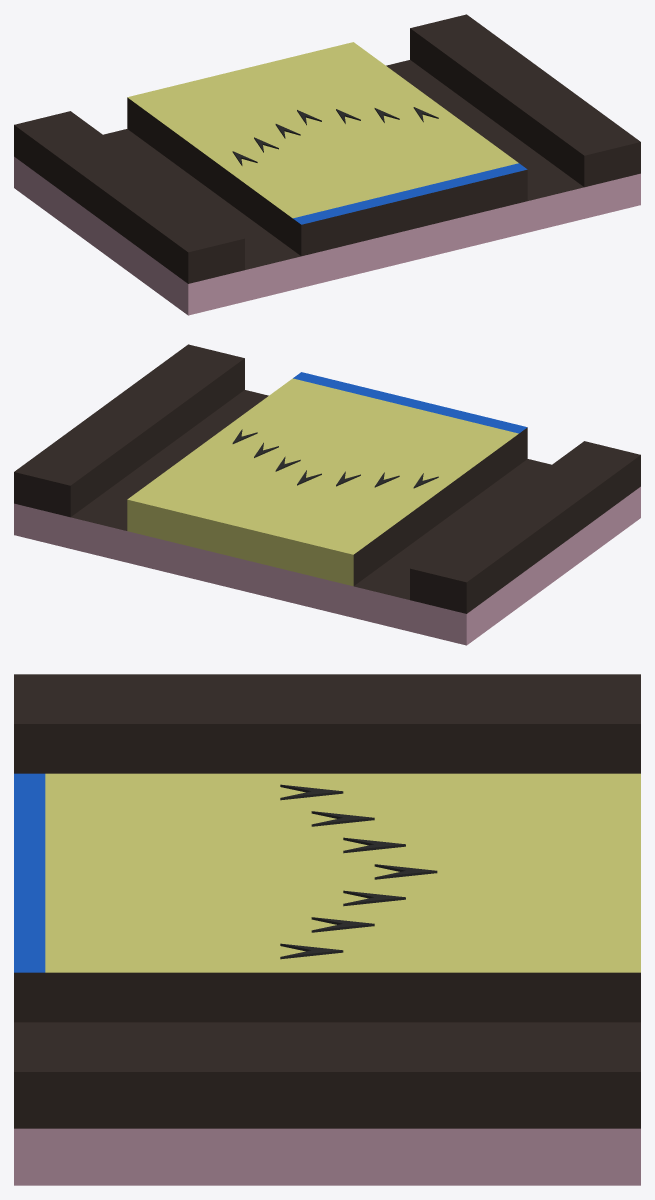
The model's file is Alley Start Section.fbx.
The picture shows the model from 3 angles, top to bottom: view 1: azimuth 30°, elevation 25°; view 2: azimuth 150°, elevation 25°; view 3: azimuth 270°, elevation 25°; orthographic projection. The views are drawn at different scales.
Visible parts, largest first — view 1: Alley Start Section, Arrows; view 2: Alley Start Section, Arrows; view 3: Alley Start Section, Arrows.
Boxes of the visible parts, x1,y1,x2,y2 form: Alley Start Section: (14,14,640,315); Arrows: (232,107,438,165); Alley Start Section: (14,344,640,645); Arrows: (232,429,438,488); Alley Start Section: (14,674,640,1185); Arrows: (280,784,437,959).
Size of the model in its own units: 3000 by 408 by 2000.
